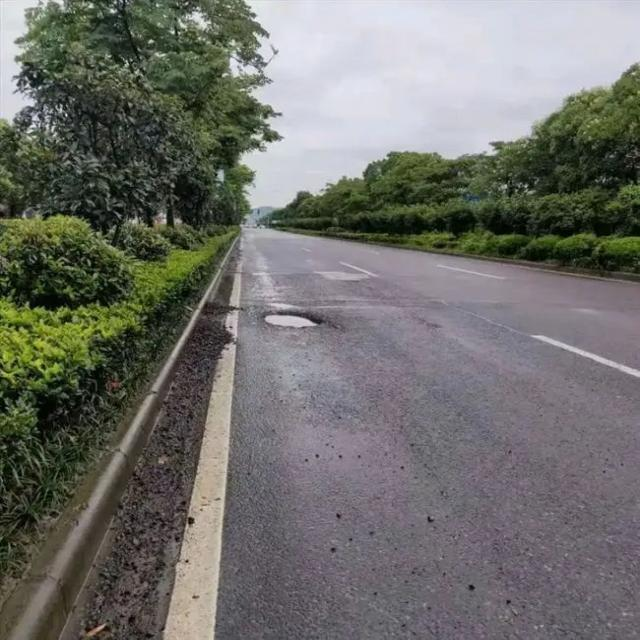Pothole: (255, 308, 336, 332)
